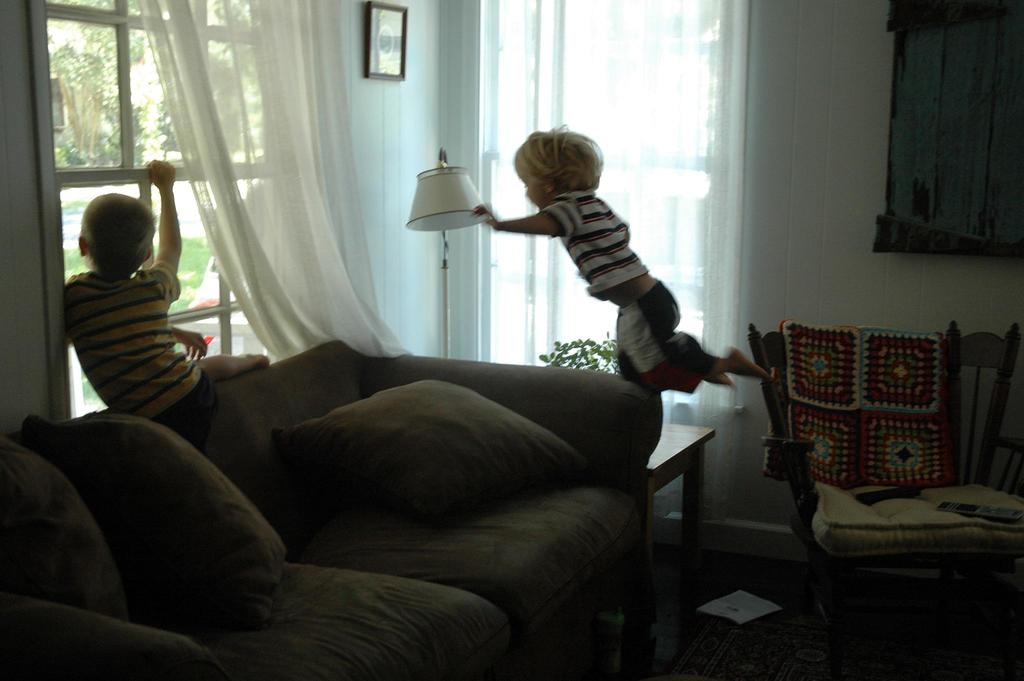Human_hand: (177, 330, 209, 363), (472, 200, 500, 230), (146, 158, 178, 183)
